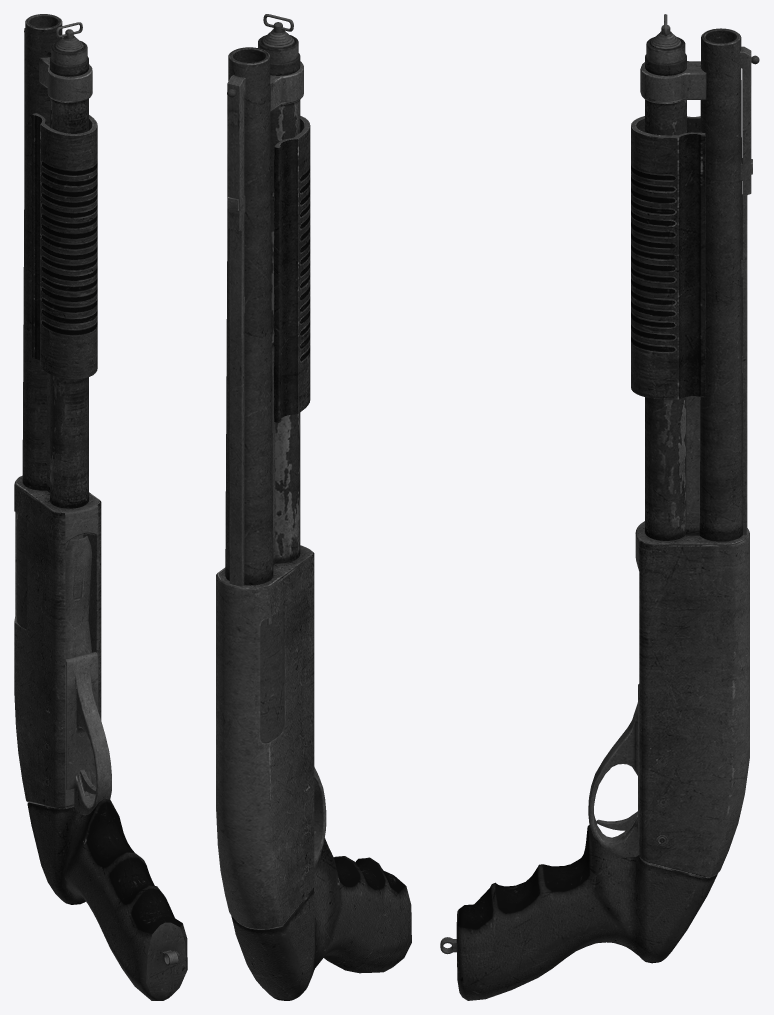
The model's file is mdlSluggerOld Variant.fbx.
3 views of the same model, side by side, from view 1: azimuth 30°, elevation 25°; view 2: azimuth 150°, elevation 25°; view 3: azimuth 270°, elevation 25° (orthographic). The views are drawn at different scales.
Visible parts, largest first — view 1: 24_+Additions|Remington M1100-P Barrel.barrelp_0.3_0_0, 24_reciever_0.3_0_0, Model; view 2: 24_+Additions|Remington M1100-P Barrel.barrelp_0.3_0_0, 24_reciever_0.3_0_0, Model; view 3: 24_+Additions|Remington M1100-P Barrel.barrelp_0.3_0_0, 24_reciever_0.3_0_0, Model.
Boxes of the visible parts, box(x1,y1,x2,y2) form: 24_+Additions|Remington M1100-P Barrel.barrelp_0.3_0_0: box(22, 14, 97, 508); 24_reciever_0.3_0_0: box(14, 475, 111, 815); Model: box(27, 798, 187, 1000); 24_+Additions|Remington M1100-P Barrel.barrelp_0.3_0_0: box(225, 14, 310, 586); 24_reciever_0.3_0_0: box(216, 545, 326, 929); Model: box(231, 838, 411, 1000); 24_+Additions|Remington M1100-P Barrel.barrelp_0.3_0_0: box(631, 14, 759, 541); 24_reciever_0.3_0_0: box(588, 521, 749, 877); Model: box(440, 825, 717, 1000).
Bounding box in the file's own units: 493 × 8656 × 2557.
